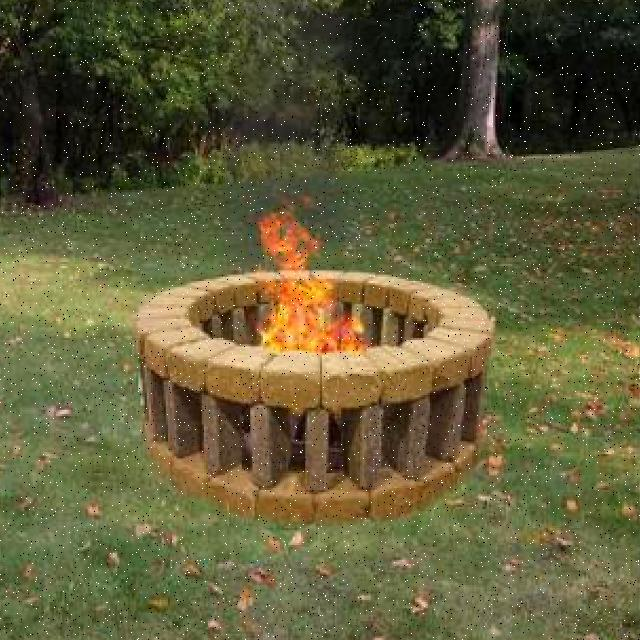fire: (255, 228, 348, 347)
smoke: (244, 150, 345, 226)
